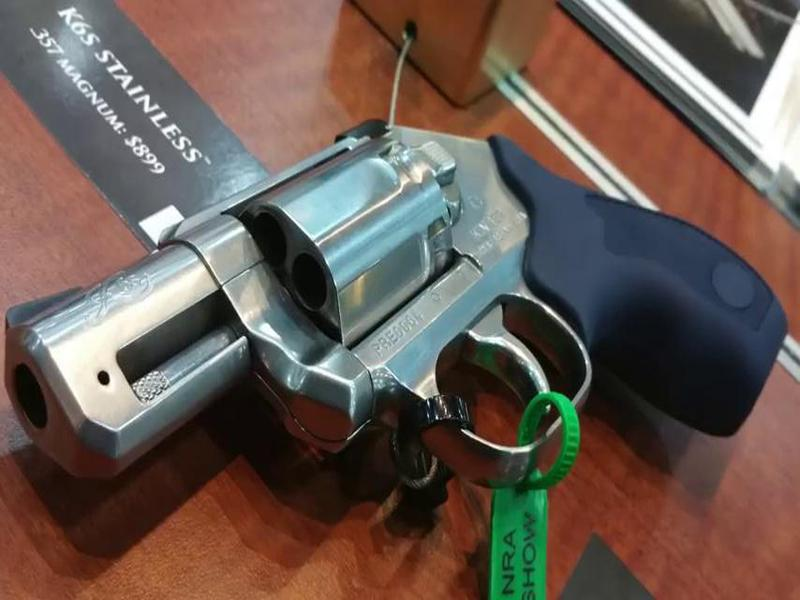Revolver: (7, 110, 790, 517)
